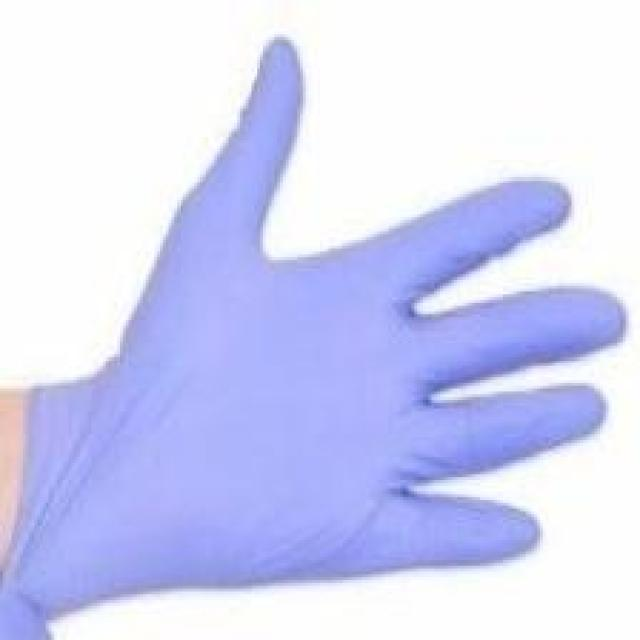Glove: (0, 17, 633, 593)
